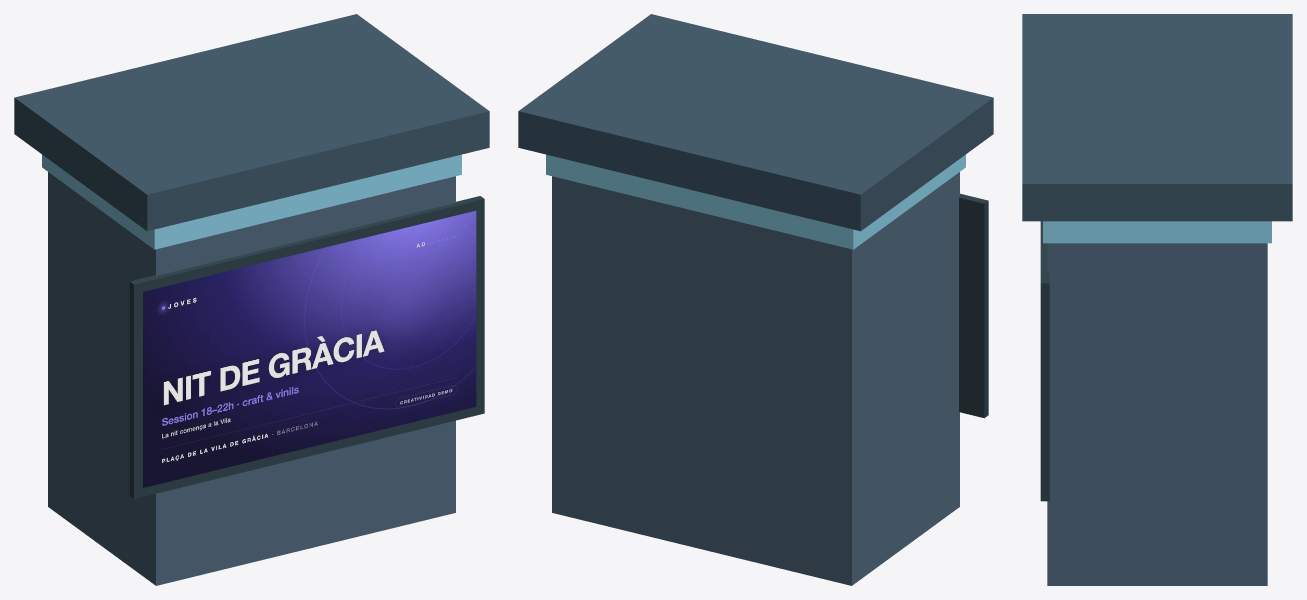
File: kiosk-jovenes.glb
3 renders of one model, left to right at view 1: azimuth 30°, elevation 25°; view 2: azimuth 150°, elevation 25°; view 3: azimuth 270°, elevation 25°, orthographic.
Visible parts, largest first — view 1: kiosk; view 2: kiosk; view 3: kiosk.
Boxes of the visible parts, x1=… form: kiosk: x1=14, y1=14, x2=489, y2=585; kiosk: x1=518, y1=14, x2=993, y2=585; kiosk: x1=1022, y1=14, x2=1292, y2=585.
Bounding box in the file's own units: 2.81 × 3.1 × 1.84.
Materials: 5 (1 with a texture image).
